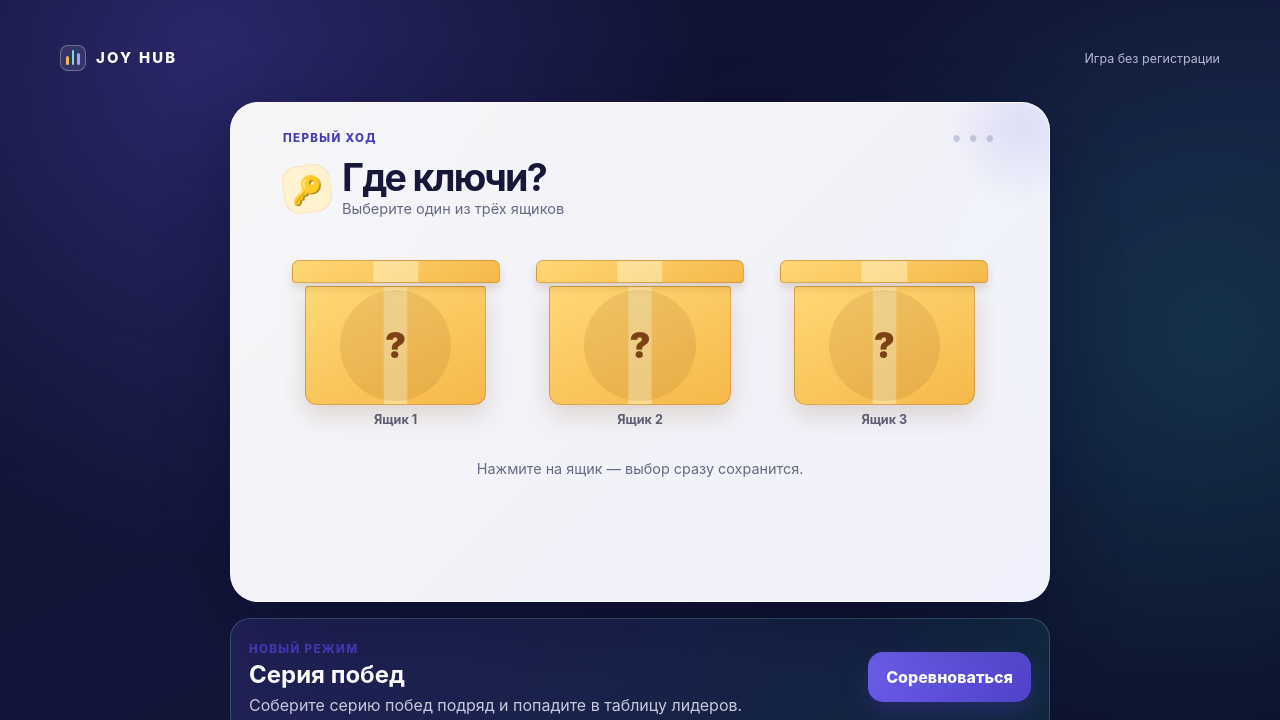
Scenario: Monty Hall application › keeps pending creation after create and clears it only after choice succeeds
Click the button named "Выбрать ящик 3" at (884, 326), box [770, 242, 999, 409]
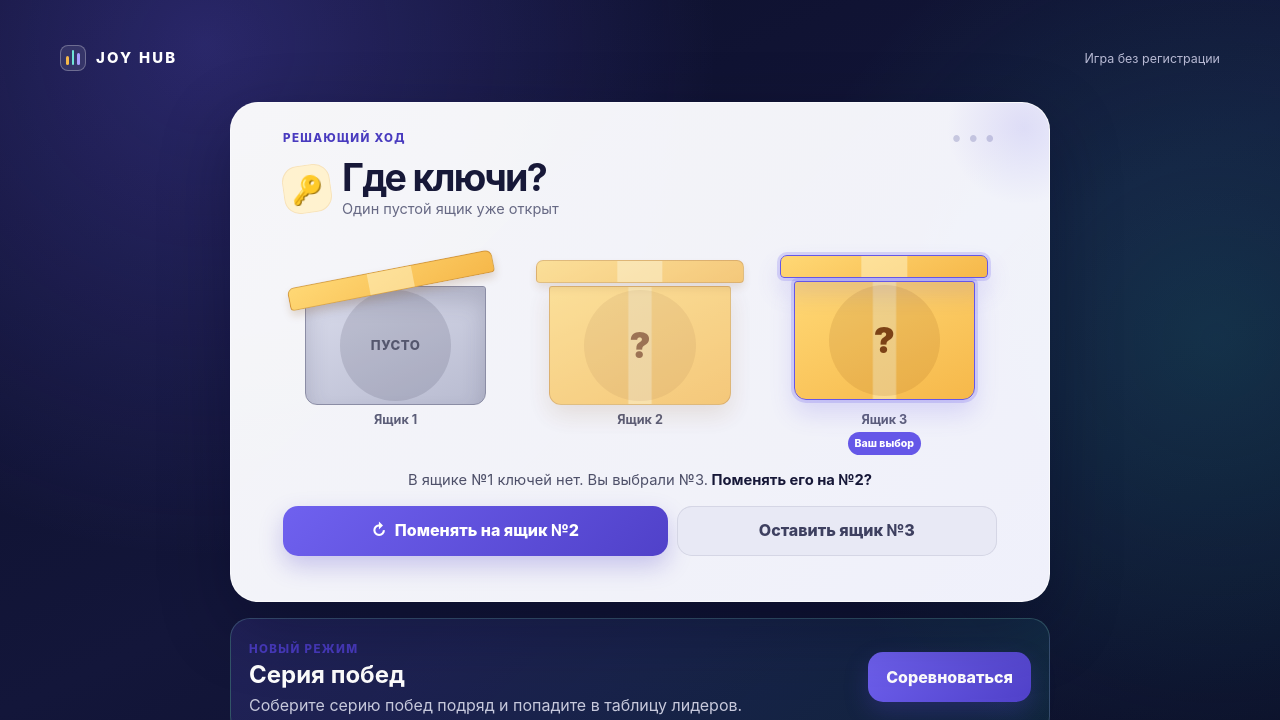
Expected: the button "↻ Поменять на ящик №2" is enabled, [283, 506, 668, 556]
